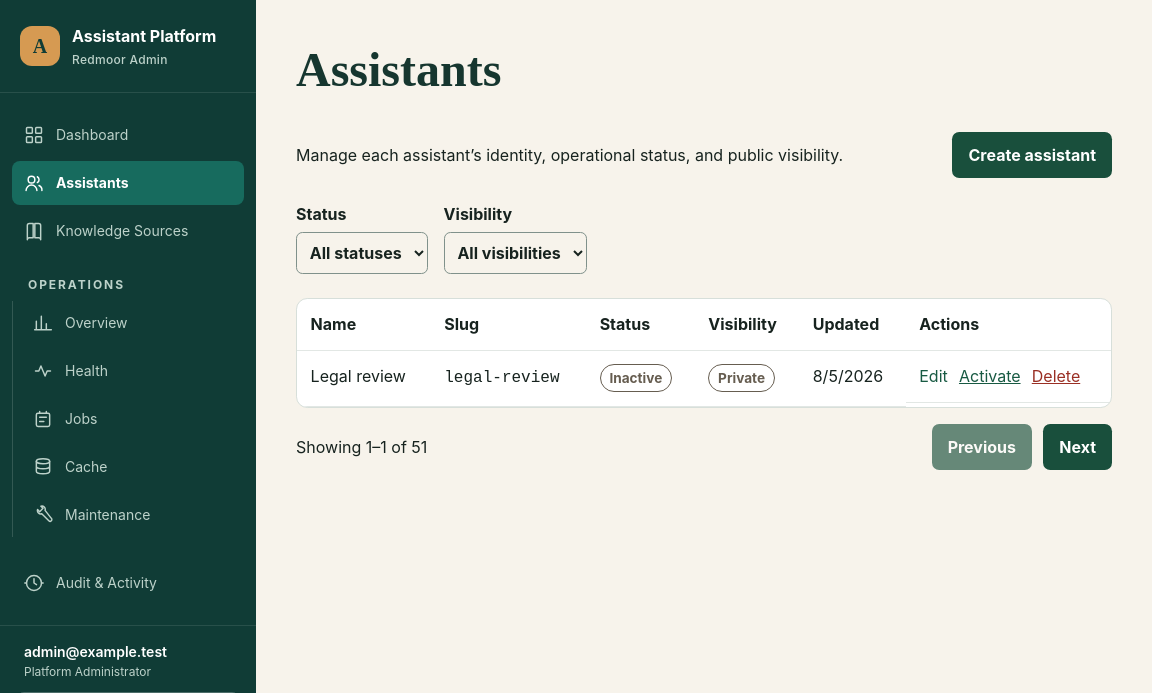
Scenario: administrator application workflows › returns to the preceding page and restores stable focus after deleting the last item
Step 1. Click the button "Next" → (1078, 447), box [1043,424,1112,470]
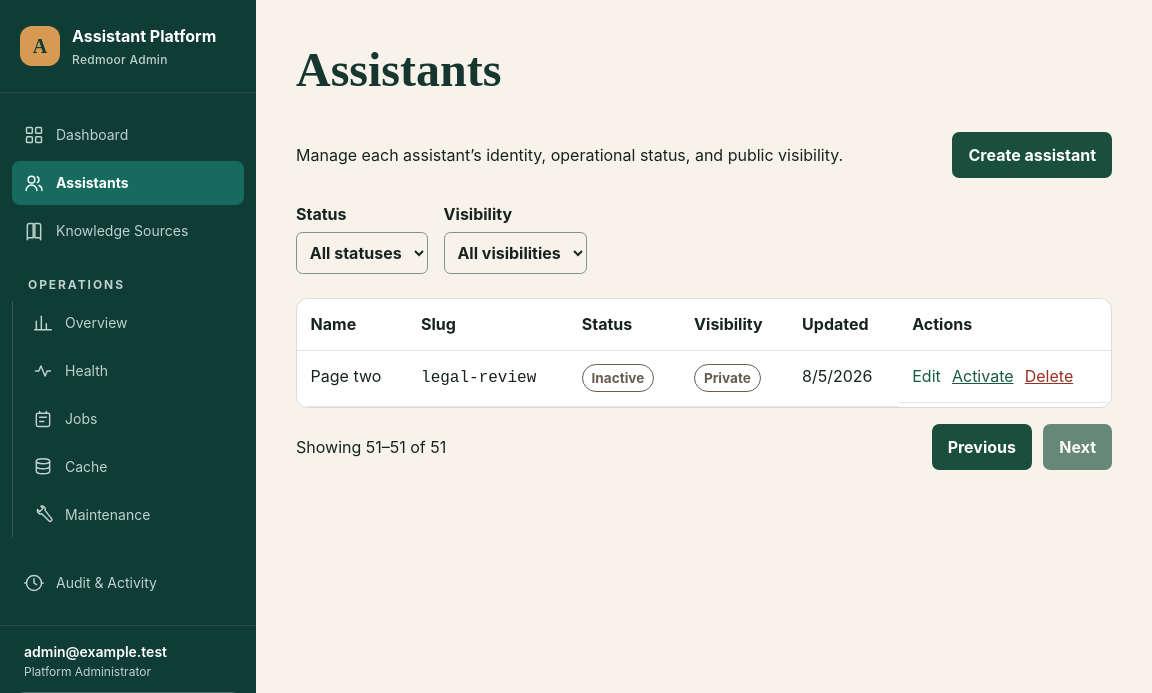
Step 2. Click the button with aria-label "Delete Page two" → (1049, 376), box [1025,364,1073,388]
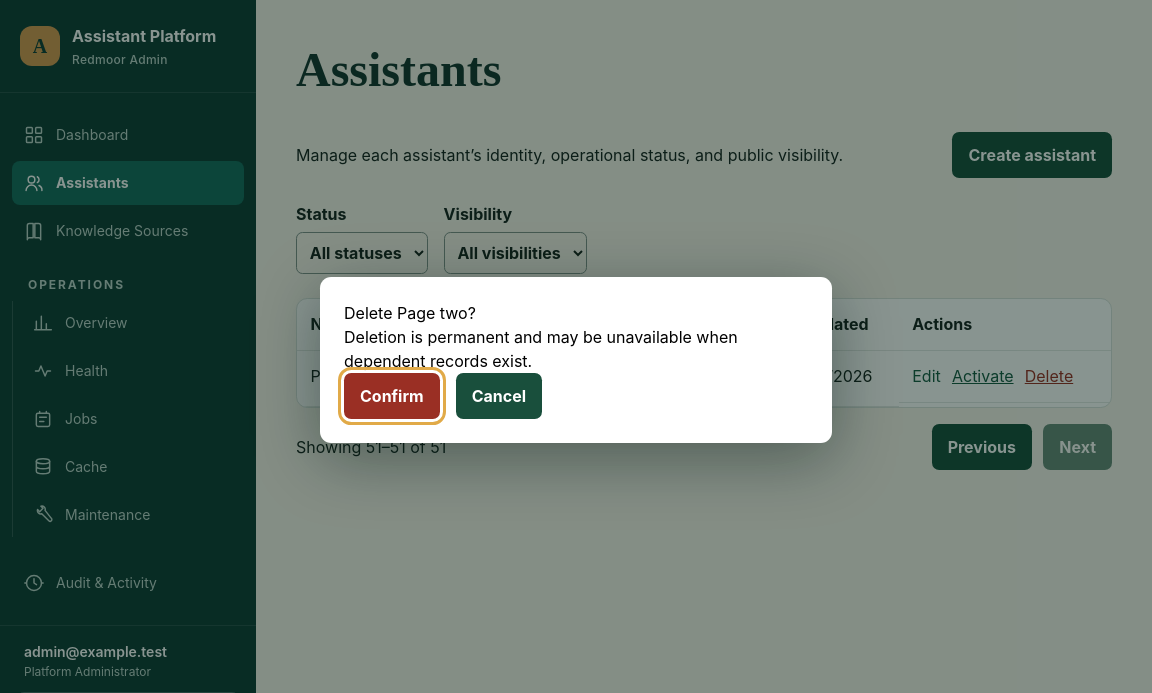
Step 3. Click the button "Confirm" → (392, 396), box [344,373,440,419]
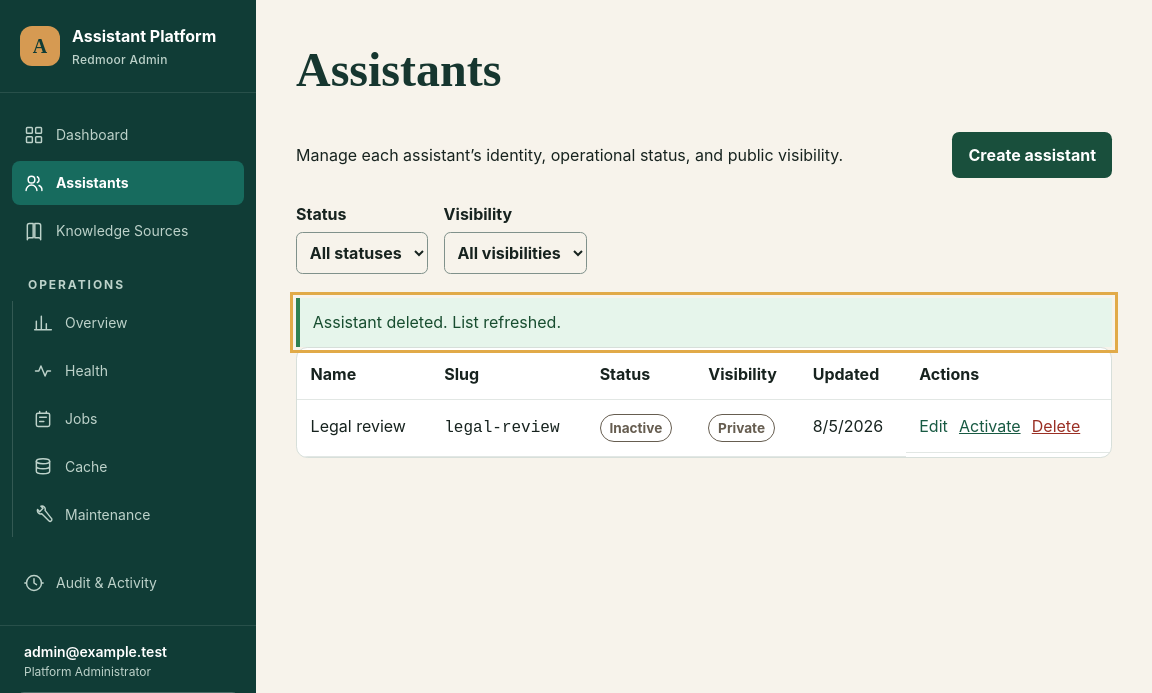
Result: the message reads "Assistant deleted. List refreshed." at [313,312,561,332]
Result: the text "Legal review" is shown at [297,400,431,456]
